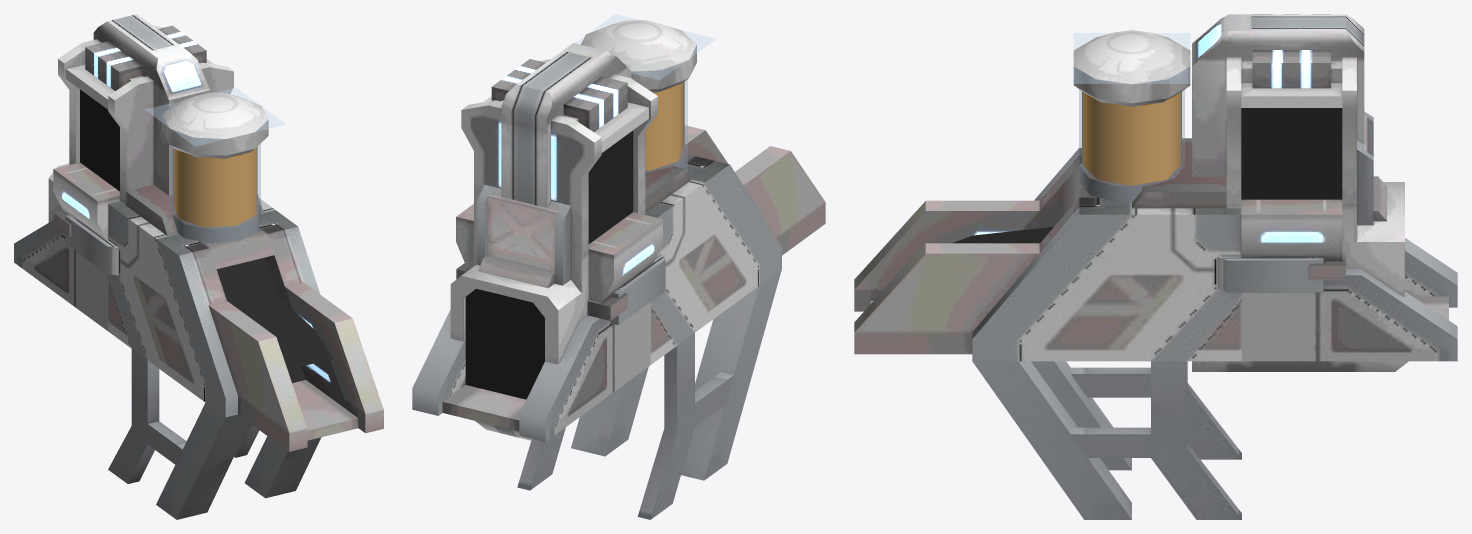
3 views of the same model, side by side, from view 1: azimuth 30°, elevation 25°; view 2: azimuth 150°, elevation 25°; view 3: azimuth 270°, elevation 25° (orthographic). The views are drawn at different scales.
Visible parts, largest first — view 1: spray-coater; view 2: spray-coater; view 3: spray-coater.
Part boxes in pixels (bbox=[...]): spray-coater: bbox=[14, 14, 383, 519]; spray-coater: bbox=[412, 14, 825, 519]; spray-coater: bbox=[854, 14, 1457, 519].
Bounding box in the file's own units: 1.48 × 4.05 × 4.78.
Materials: 5 (1 with a texture image).
